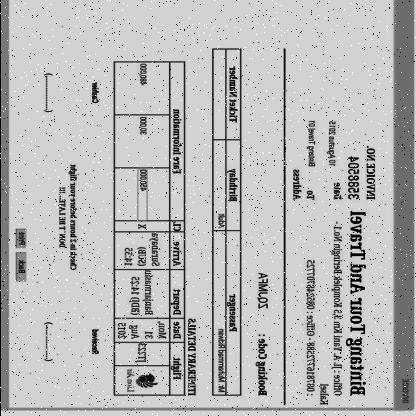Paragraph: (304, 210, 366, 406), (292, 120, 376, 201), (216, 293, 238, 395), (58, 164, 78, 270), (254, 272, 268, 396), (216, 168, 238, 230), (186, 318, 196, 396), (226, 66, 238, 124), (89, 81, 99, 104), (90, 328, 98, 354), (16, 260, 26, 274), (17, 232, 25, 246)
Table: (112, 61, 184, 395)
